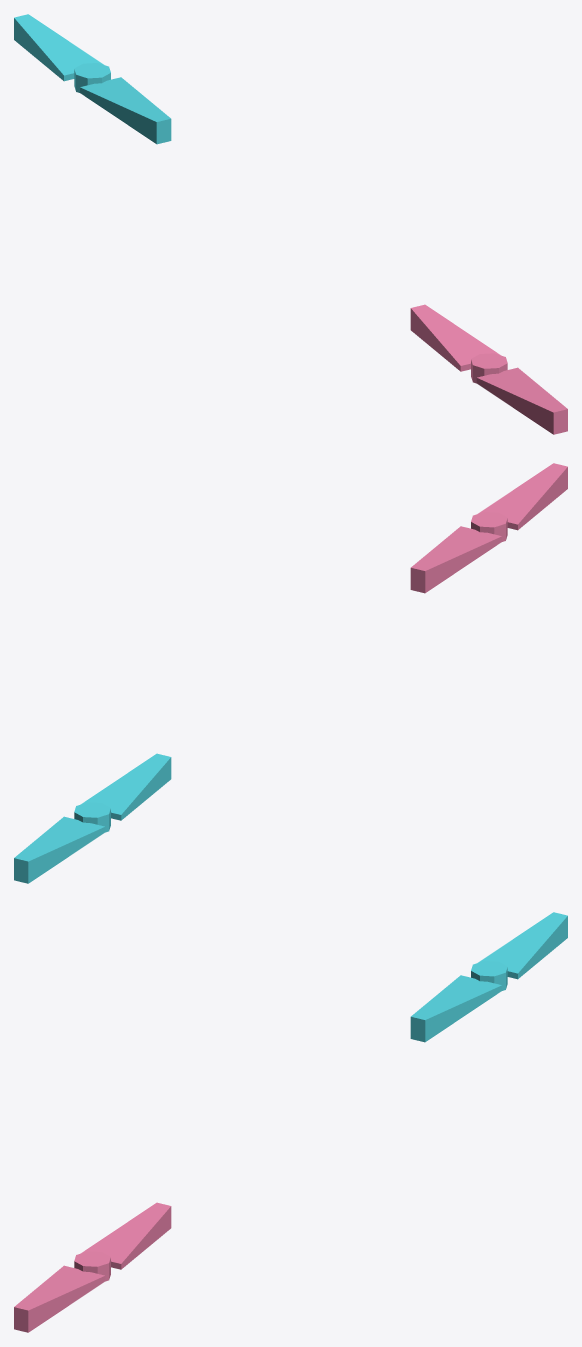
File: propeller.glb
3 views of the same model, one above another, from view 1: azimuth 30°, elevation 25°; view 2: azimuth 150°, elevation 25°; view 3: azimuth 330°, elevation 25° (orthographic).
Parts seen in each view (by area): view 1: PropFL, PropBL; view 2: PropFL, PropBL; view 3: PropFL, PropBL.
Boxes of the visible parts, x1,y1,x2,y2 form: PropFL: (14,14,171,144); PropBL: (410,304,567,434); PropFL: (14,753,171,883); PropBL: (410,463,567,593); PropFL: (410,912,567,1042); PropBL: (14,1202,171,1332).
Bounding box in the file's own units: 0.03 × 0.0155 × 0.68.
